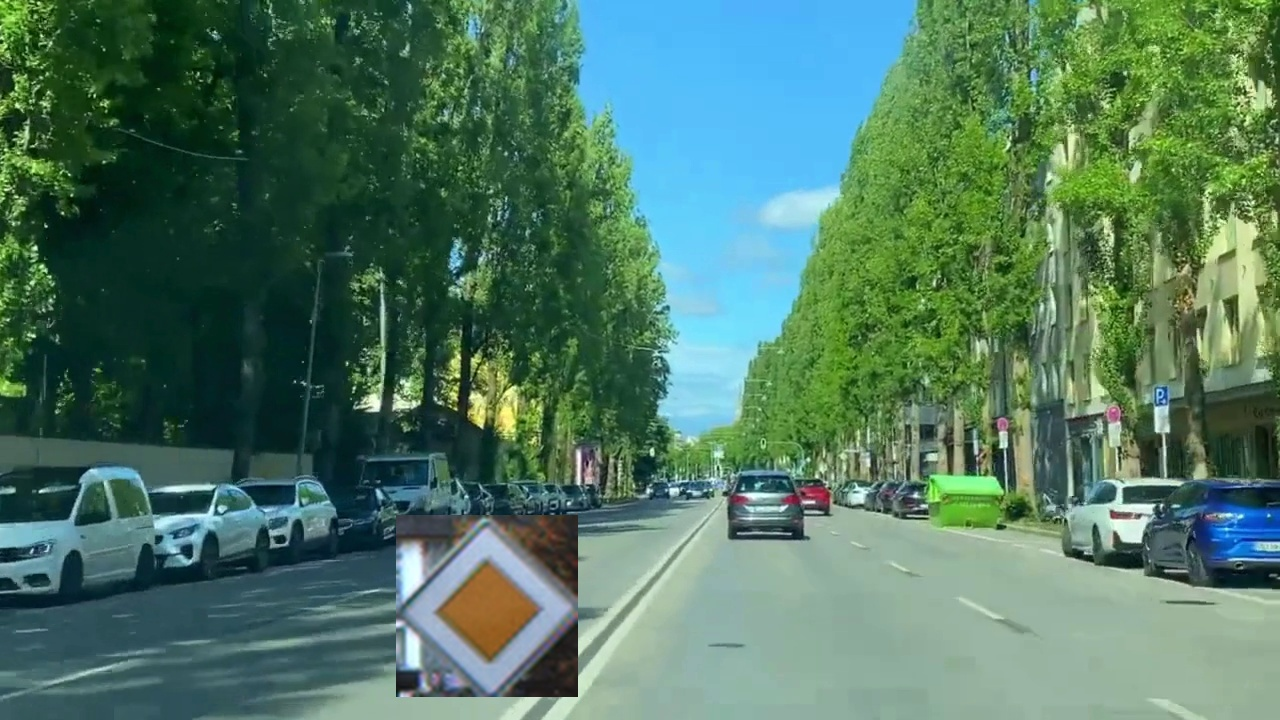Priority road: (396, 515, 578, 697)
